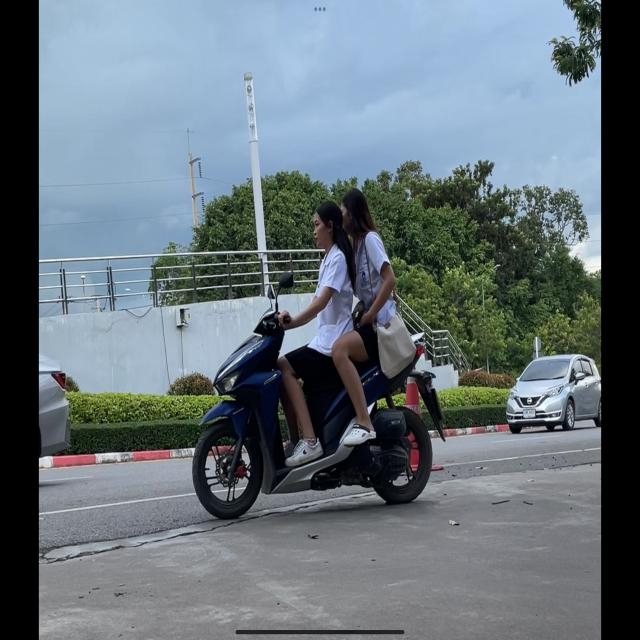seatbelt: (340, 188, 368, 235), (311, 200, 337, 250)
